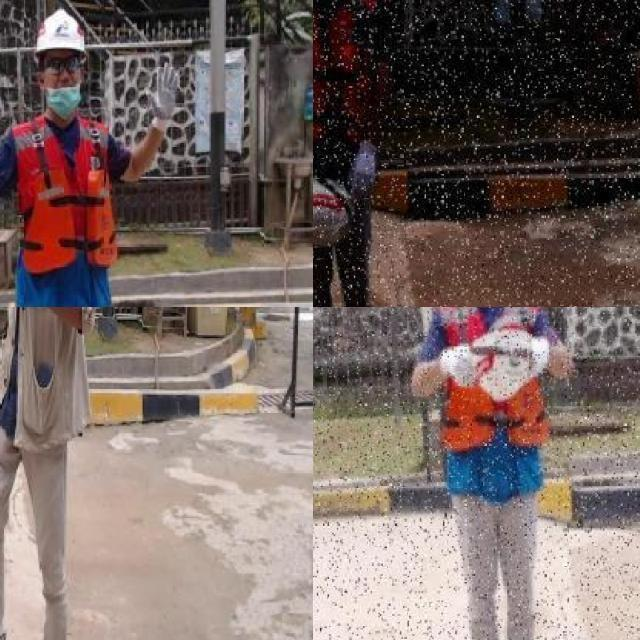apron: (145, 63, 179, 134), (349, 142, 377, 204), (440, 344, 474, 392), (529, 338, 551, 381)
